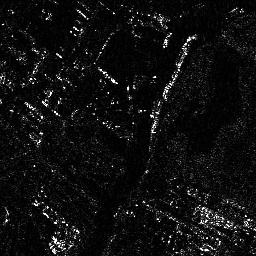ship: (175, 36, 191, 68)
